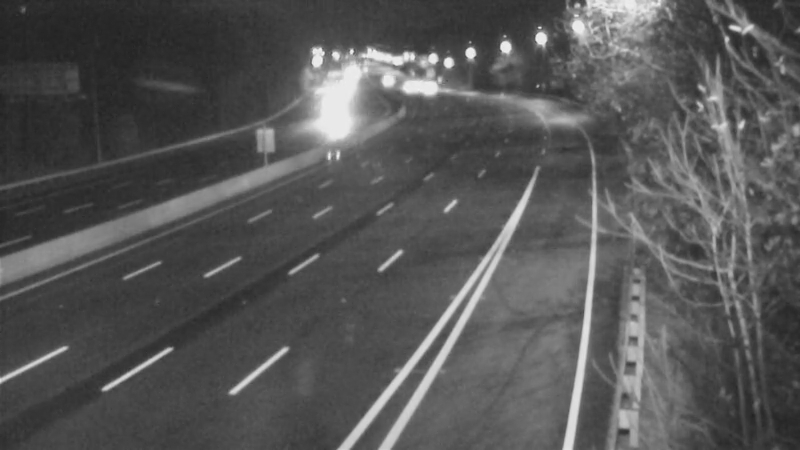vehicle: (360, 57, 410, 107), (379, 60, 429, 110), (400, 64, 450, 114), (301, 101, 351, 151)
